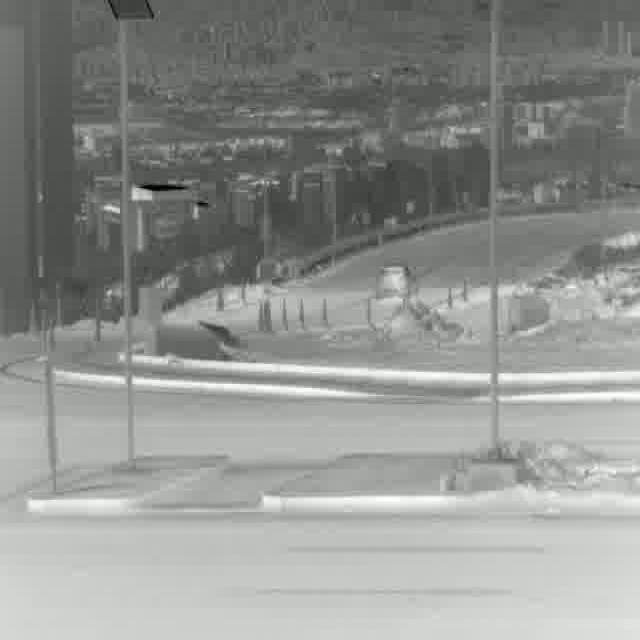Car: (377, 258, 415, 302)
